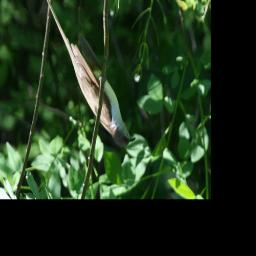Cuckoo: (43, 0, 135, 148)
